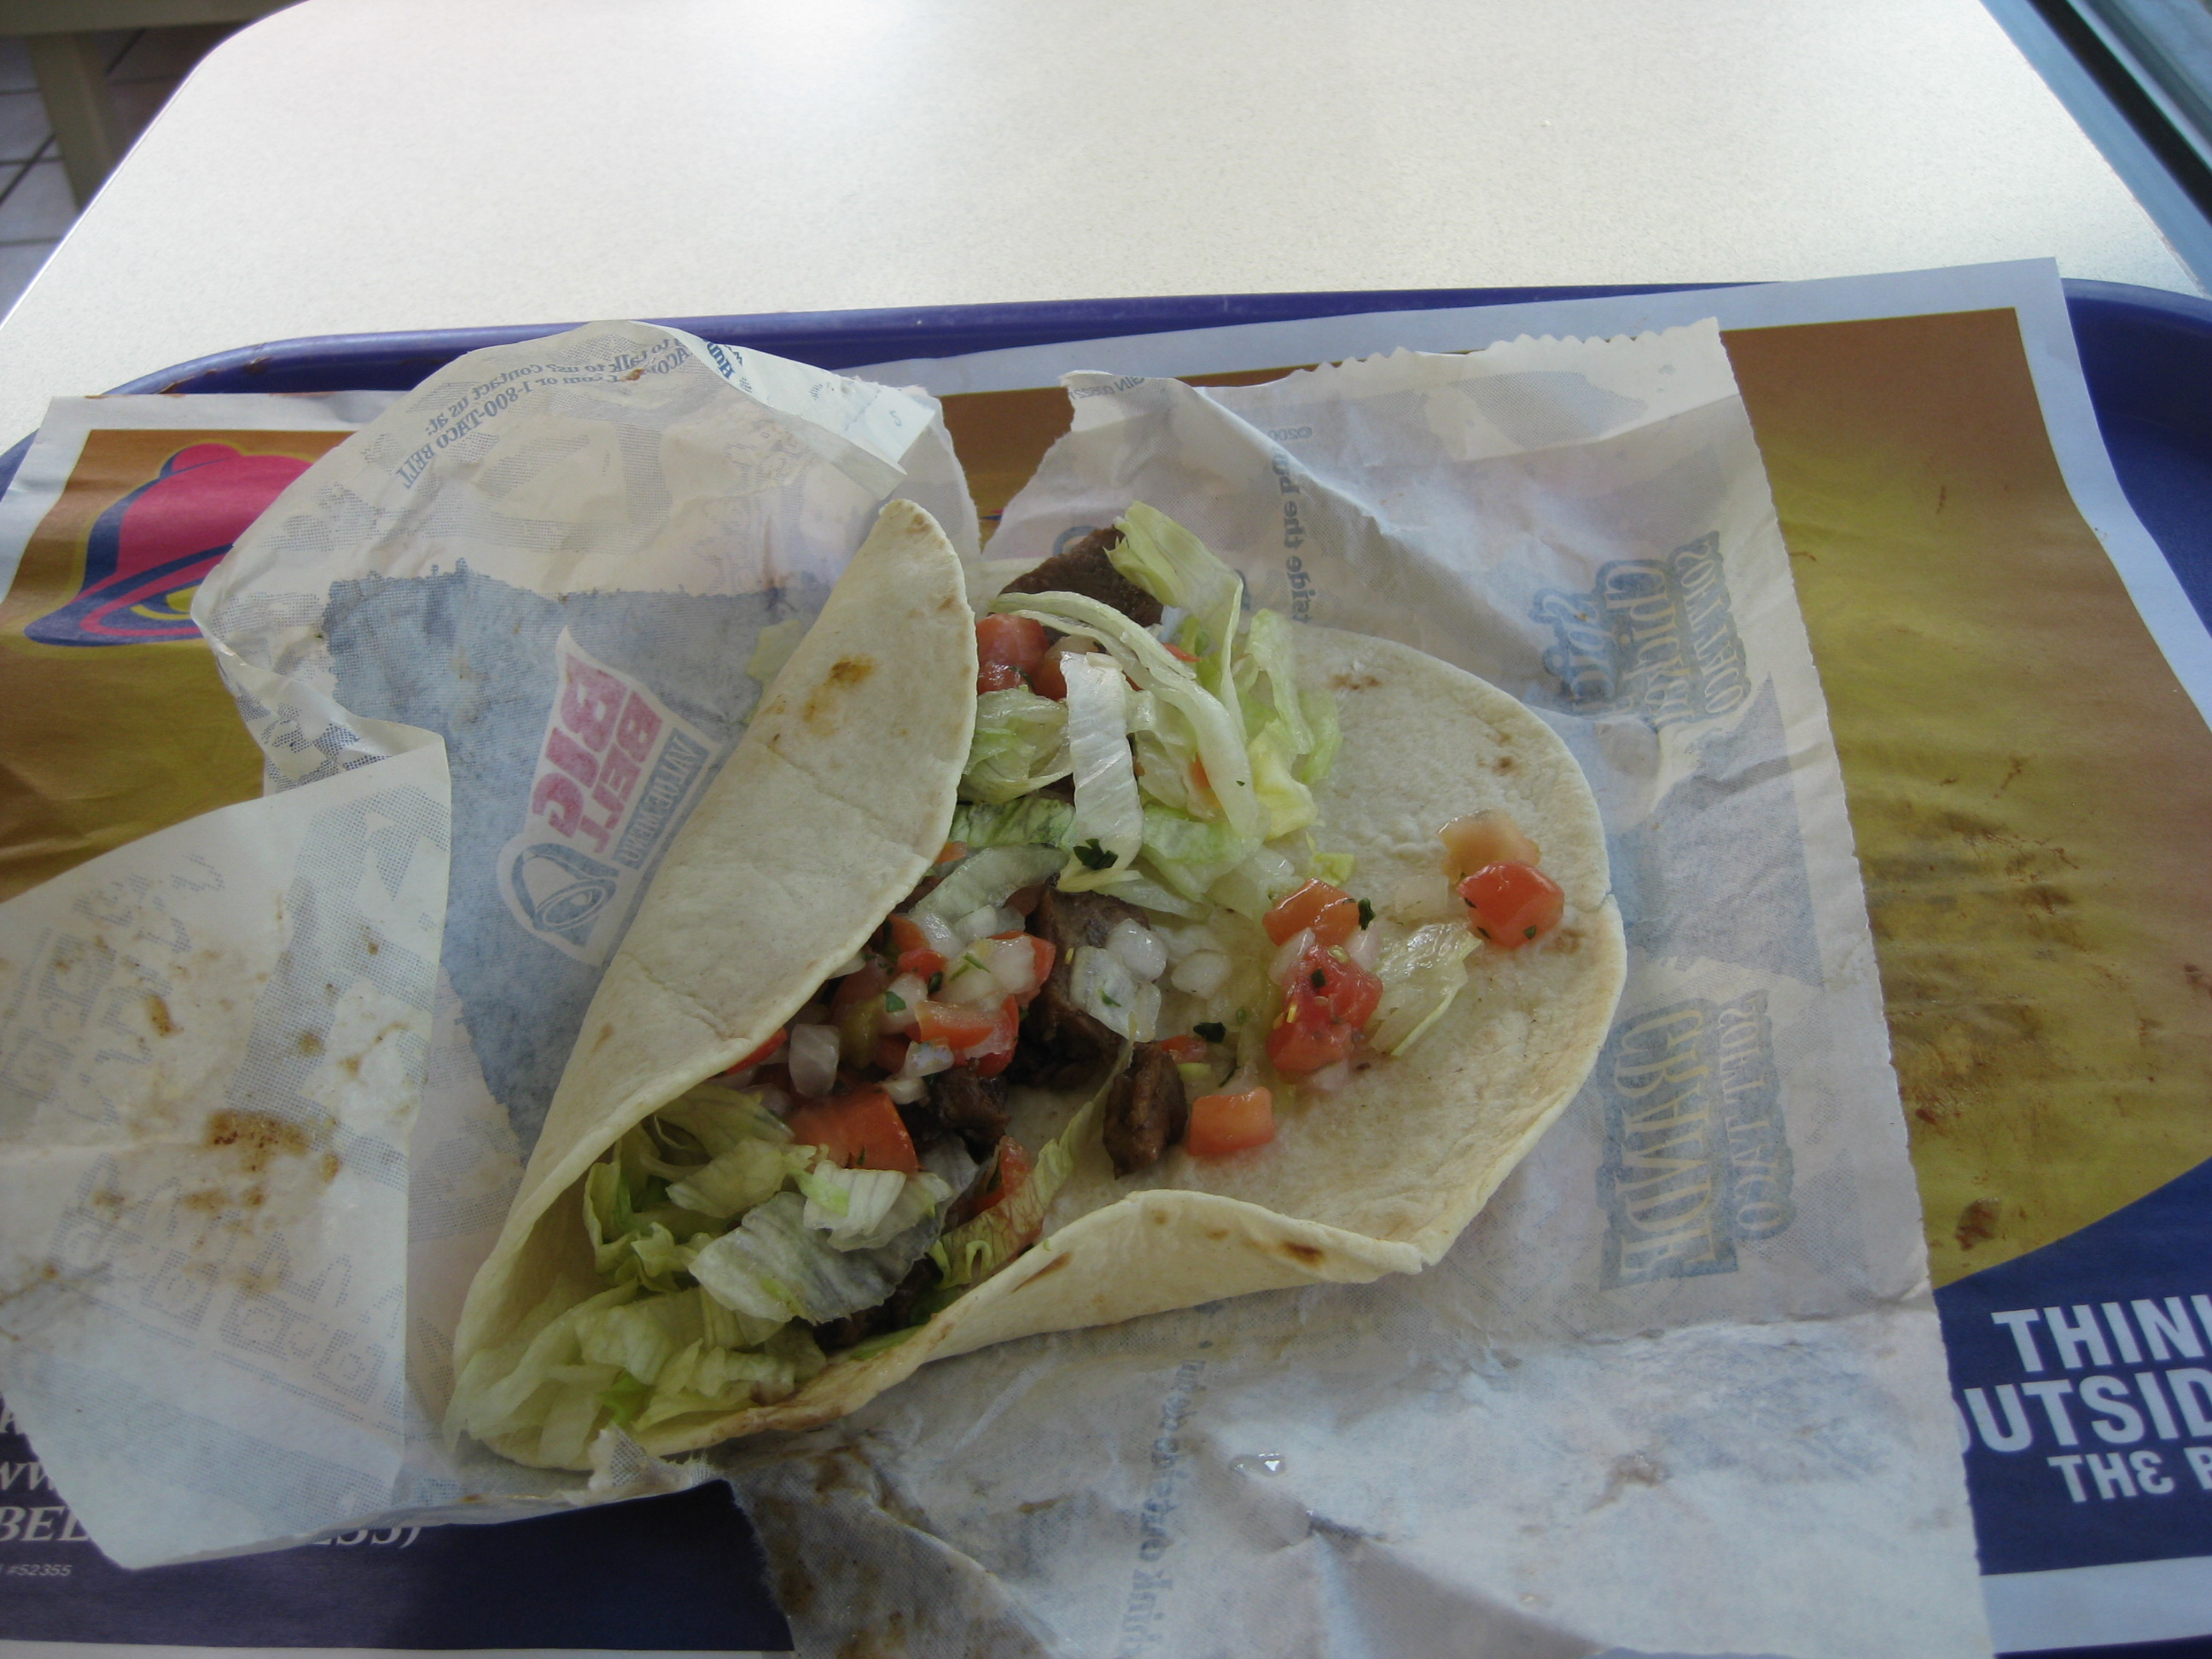taco: (447, 433, 1672, 1499)
